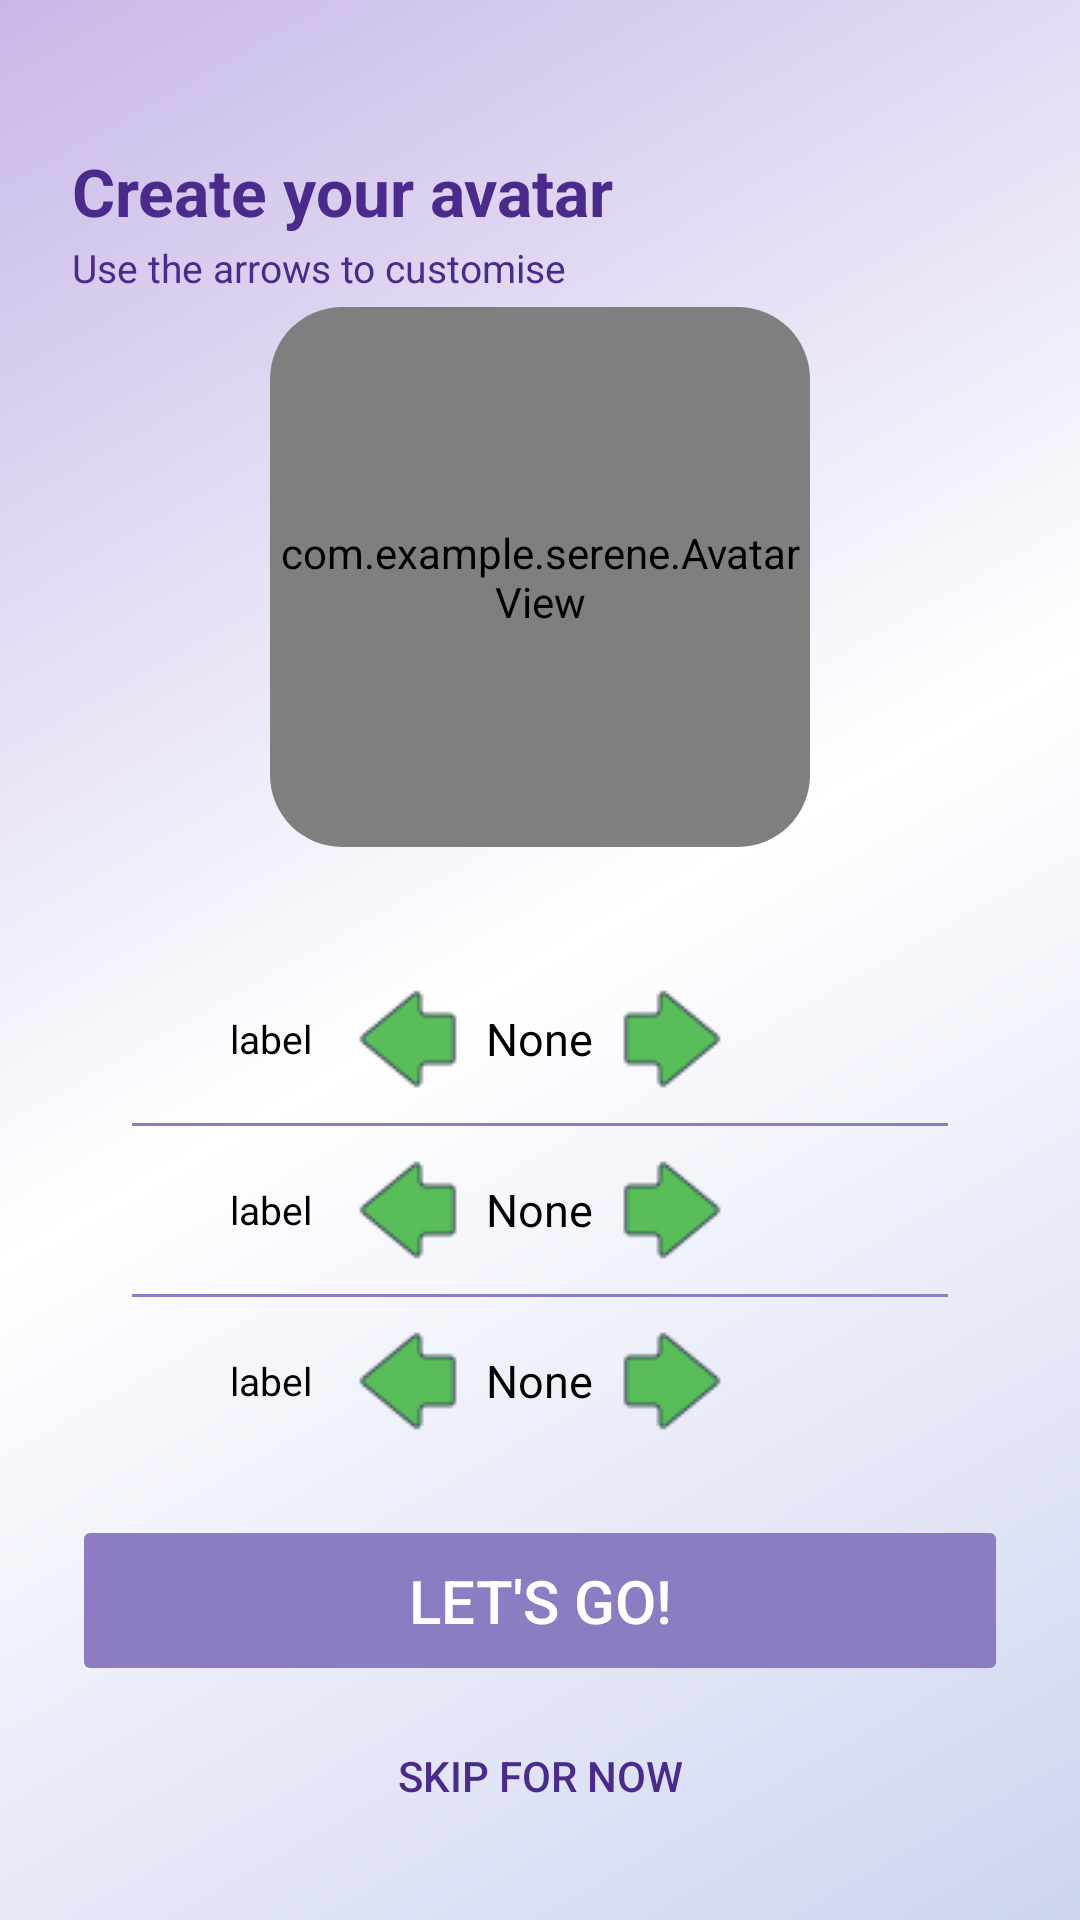

Icons on this 1080px×1920px Android screen, each with the point to tap as [x,y]:
Next: [672,1039], [672,1210], [672,1381]
Previous: [408,1039], [408,1210], [408,1381]
